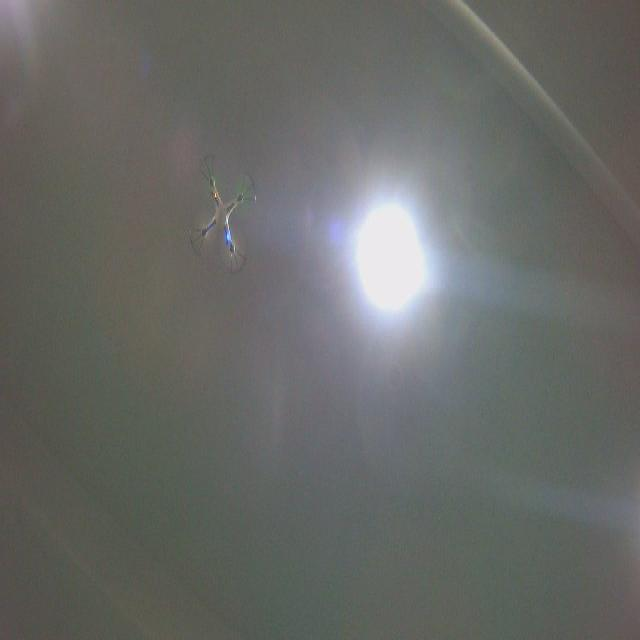drone: (184, 148, 259, 278)
